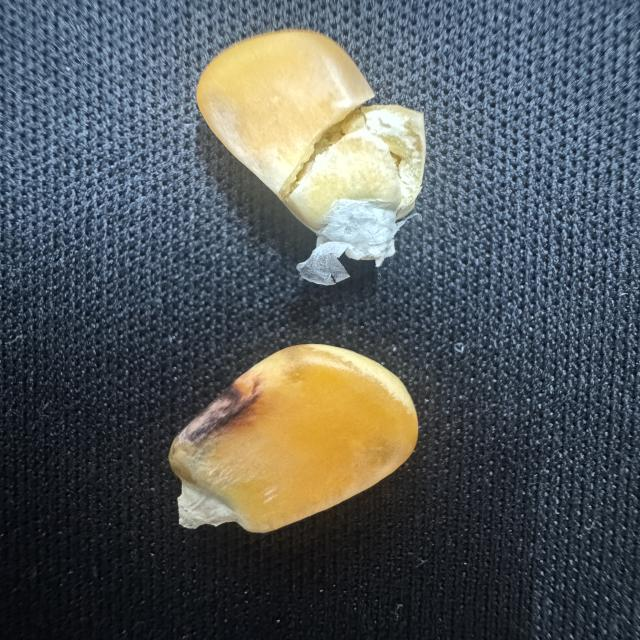Bad-Seed: (195, 24, 435, 294), (160, 335, 426, 554)
